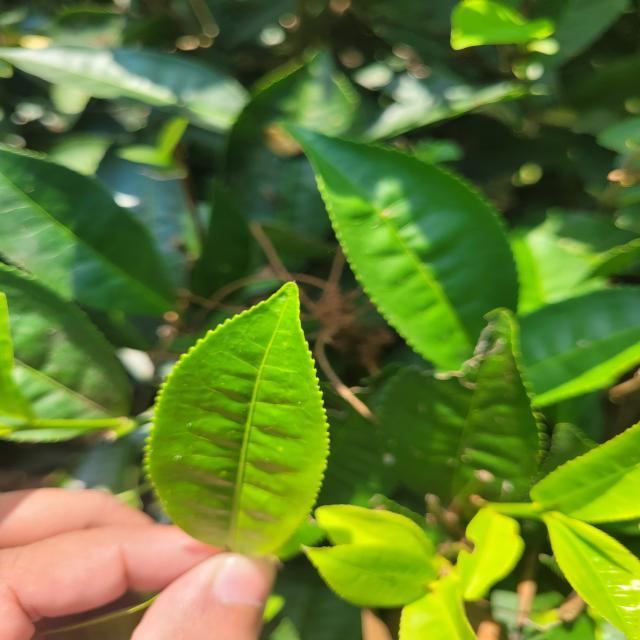Catagory A 1-2 days: (110, 271, 347, 573)
